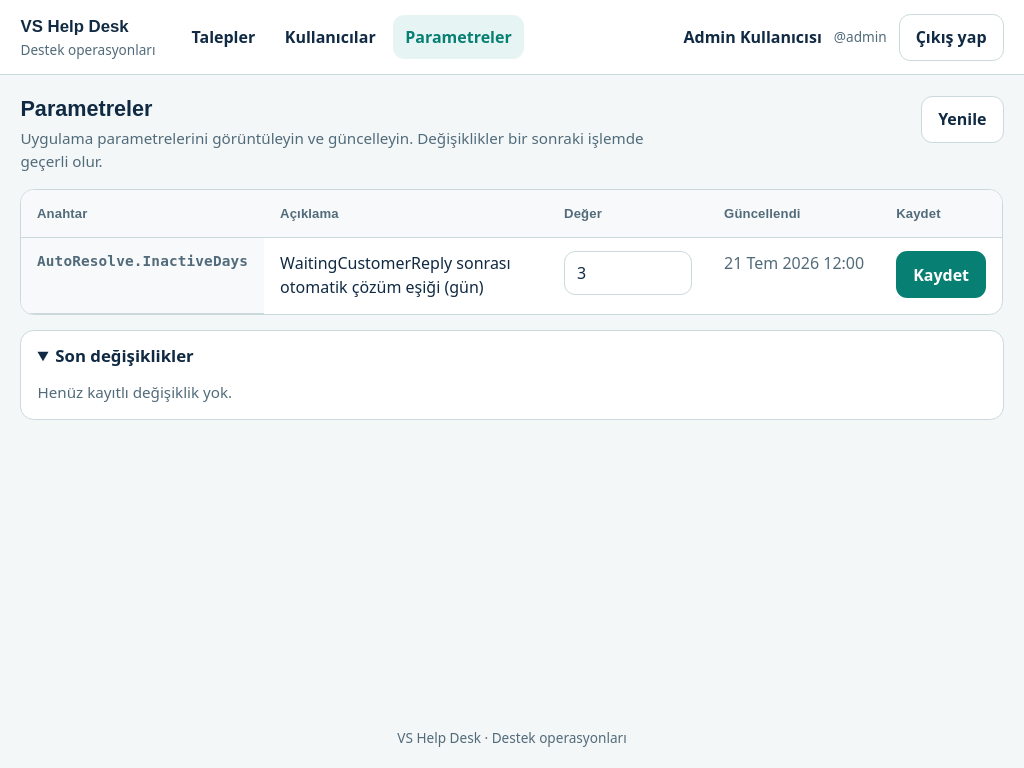
ParametersPage › saves a value with PUT body { value } and shows success notice
Expected: the table is shown, [22,190,1003,314]
Replace the text in the field named "AutoResolve.InactiveDays değeri" with "7". click: (628, 273)
box: [564,251,692,295]
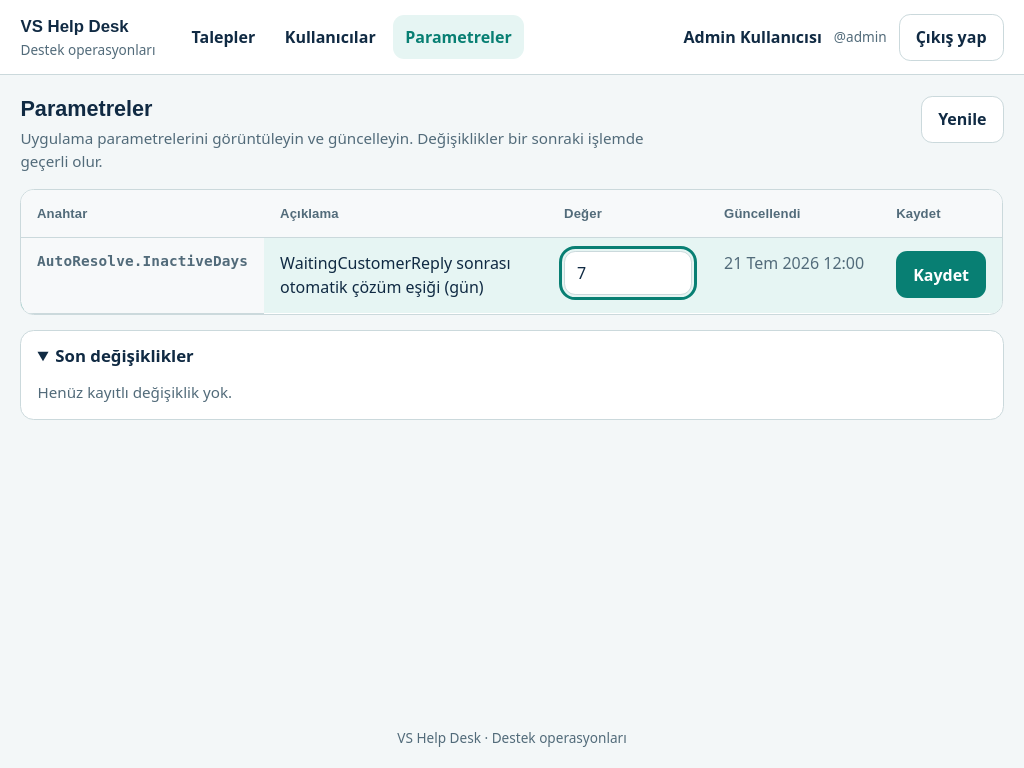
Click the button "Kaydet". click: (942, 275)
box: [897,251,986,298]
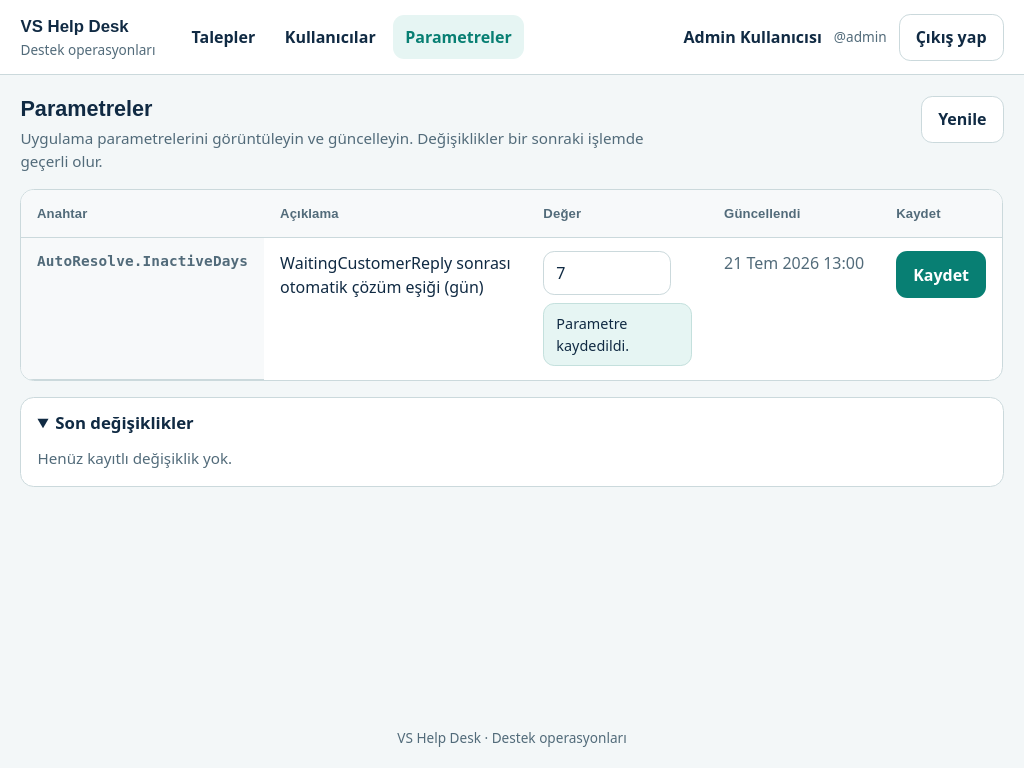
Result: the message reads "Parametre kaydedildi." at [557,314,630,355]
